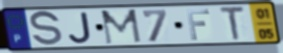7: (141, 8, 170, 44)
F: (184, 8, 212, 41)
J: (67, 11, 94, 45)
M: (99, 8, 144, 46)
S: (29, 9, 65, 48)
T: (218, 5, 247, 43)
